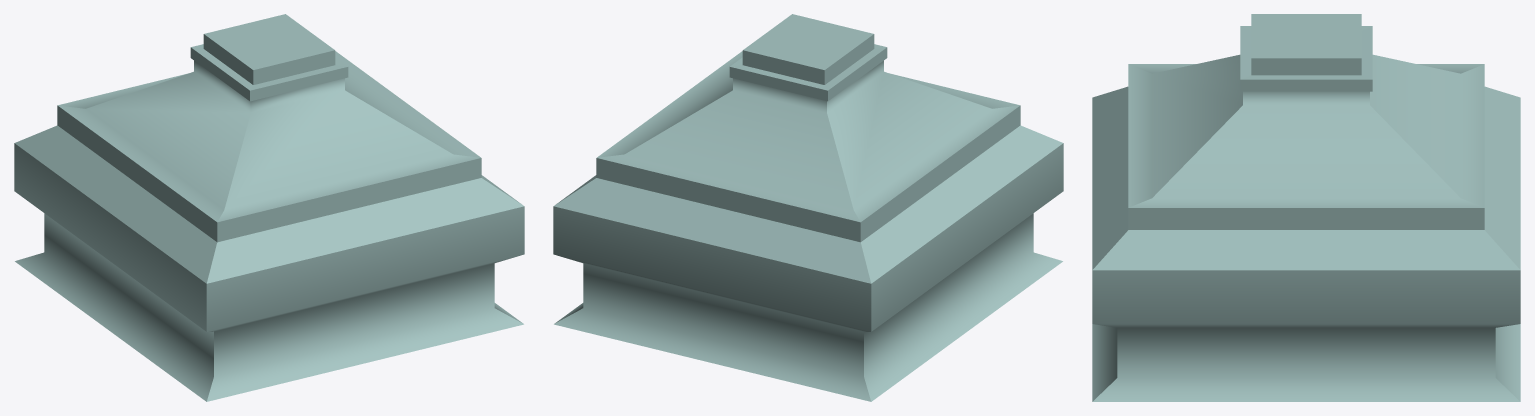
File: BPillarTopL.fbx
3 views of the same model, side by side, from view 1: azimuth 30°, elevation 25°; view 2: azimuth 150°, elevation 25°; view 3: azimuth 270°, elevation 25° (orthographic). The views are drawn at different scales.
Parts seen in each view (by area): view 1: BPillarTopL; view 2: BPillarTopL; view 3: BPillarTopL.
Part boxes in pixels (x1,y1,x2,y2): BPillarTopL: (14, 14, 524, 401); BPillarTopL: (553, 14, 1063, 401); BPillarTopL: (1092, 14, 1520, 401).
Size of the model in its own units: 200 by 151 by 210.
